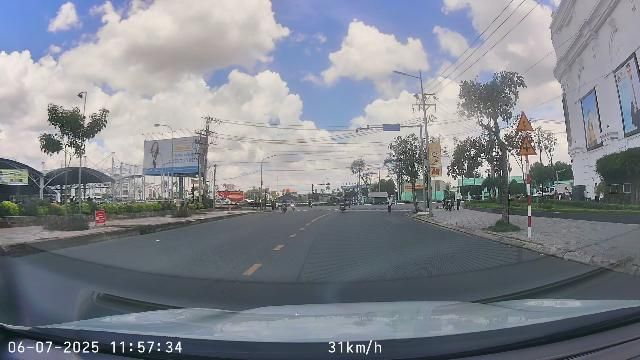209-giao-nhau-co-tin-hieu-den: (517, 112, 534, 132)
